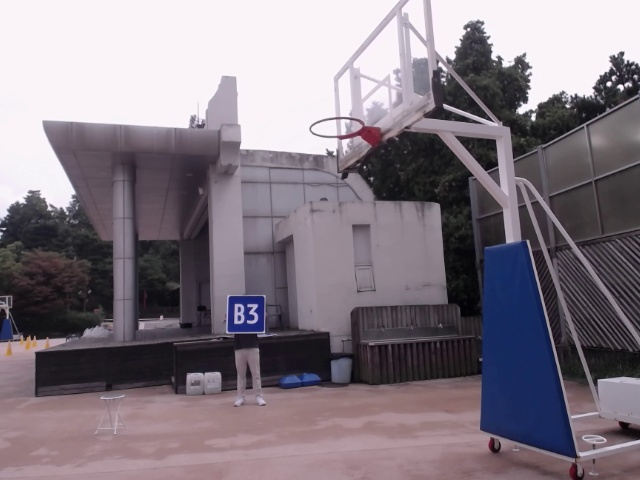delivery_b3: (228, 294, 266, 334)
